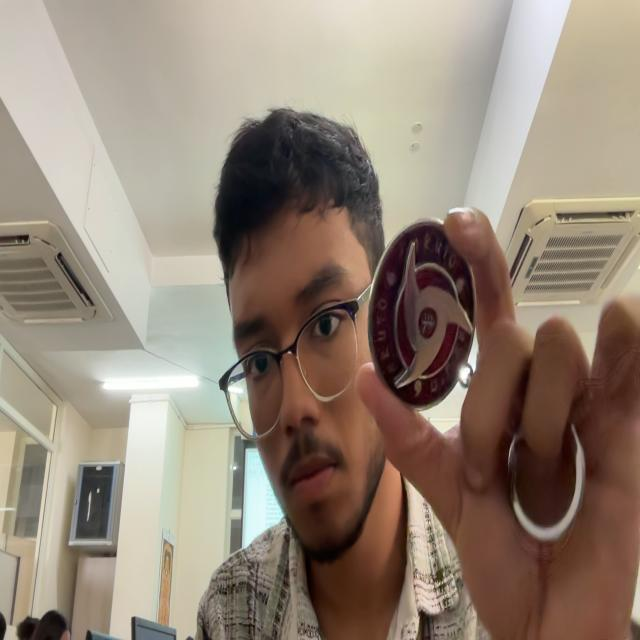dangerous: (368, 220, 475, 409)
